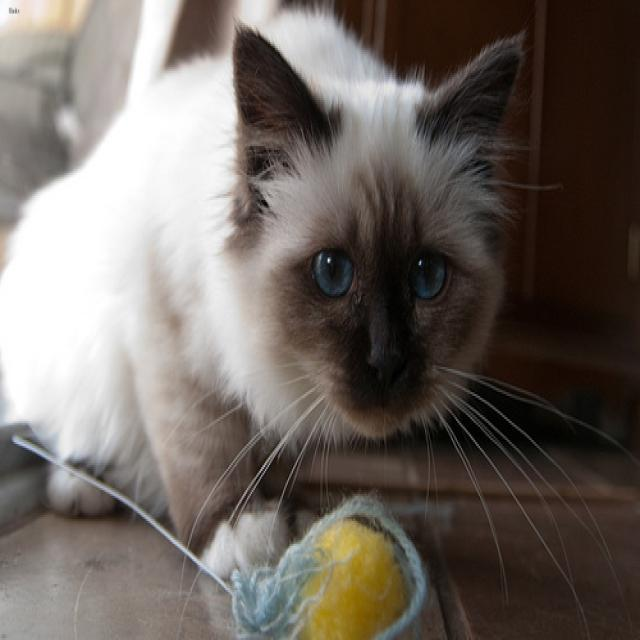Birman: (230, 23, 520, 432)
